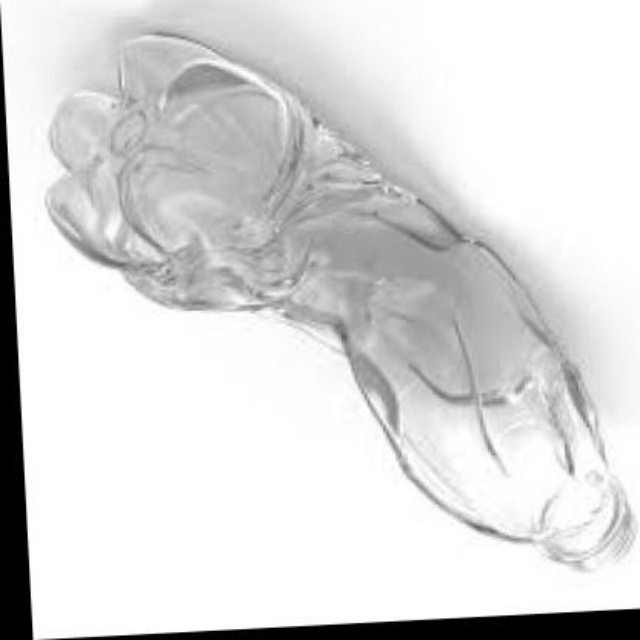trash: (46, 34, 634, 562)
